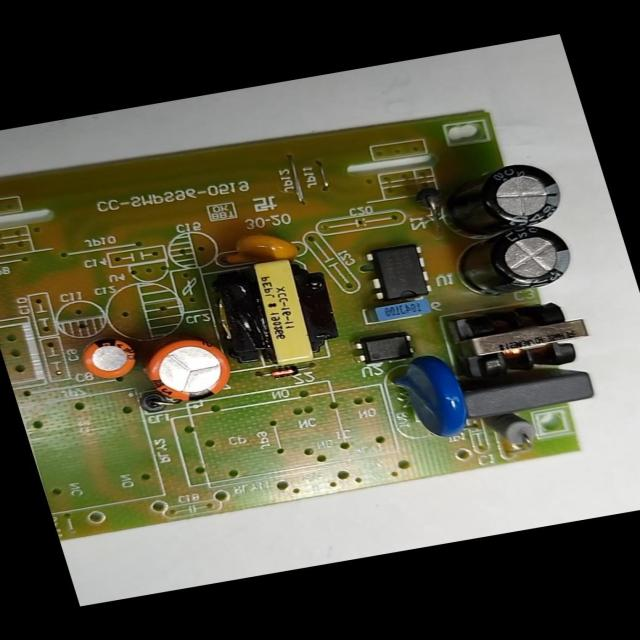Cap1: (133, 333, 242, 410)
Cap2: (75, 332, 144, 384)
Cap3: (446, 219, 578, 300)
Cap4: (431, 156, 570, 240)
MOSFET: (358, 240, 437, 305)
Mov: (379, 348, 476, 446)
Resistor: (483, 410, 541, 454)
Transformer: (206, 252, 350, 373), (447, 296, 603, 387)
